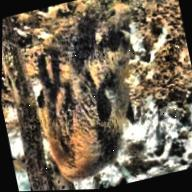boar: (0, 12, 173, 192)
